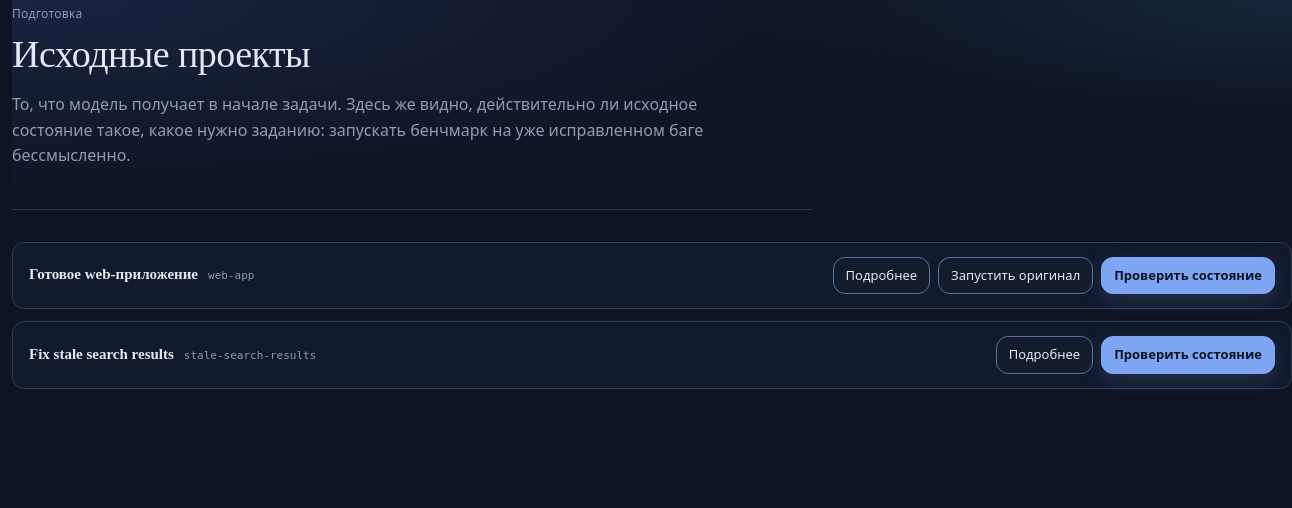
Scenario: исходные проекты › открывает файлы, с которых начнёт модель
Expected: the heading "Fix stale search results" is shown, [29, 346, 174, 363]
Click the button "Подробнее" in the row of "stale-search-results" at (1044, 355), box [996, 336, 1093, 374]
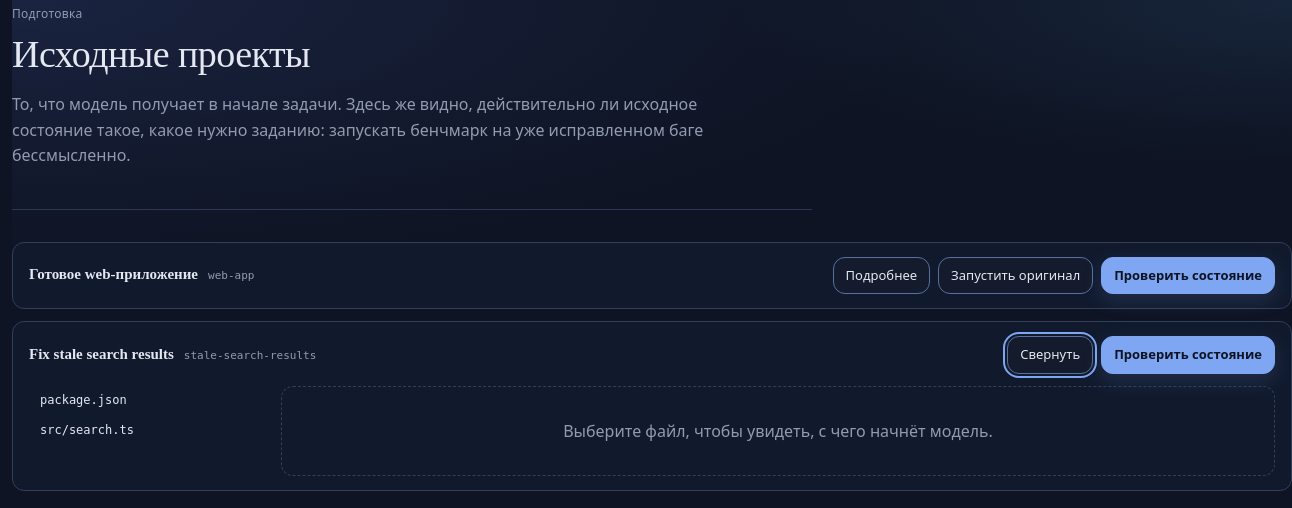
Click the button "src/search.ts" at (149, 430), box [29, 416, 269, 444]
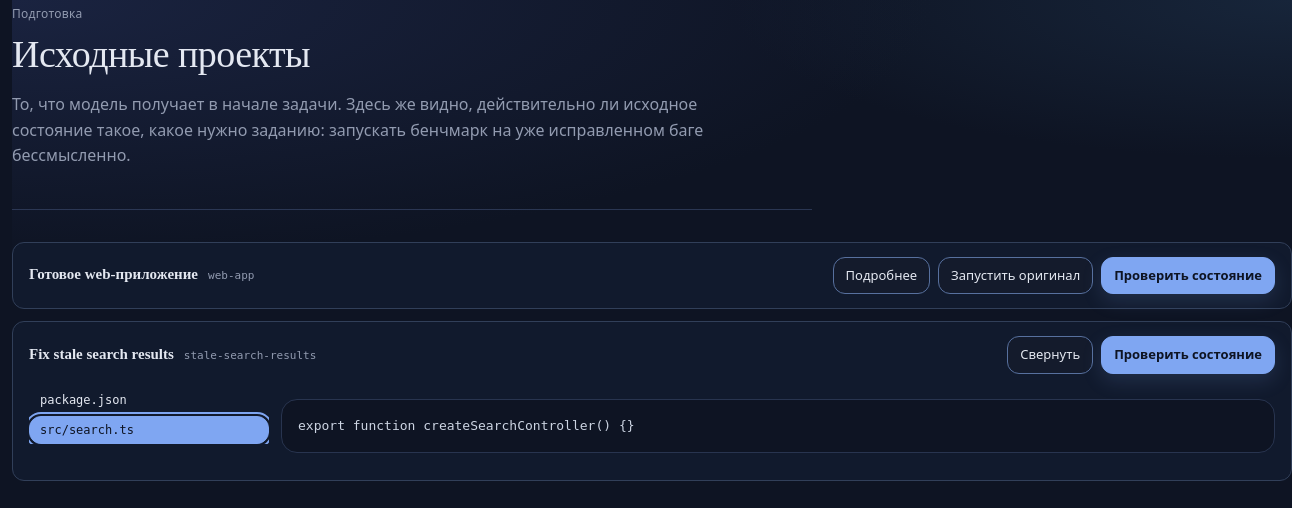
Expected: the text "export function createSearchController() {}" is shown, [281, 399, 1275, 453]
